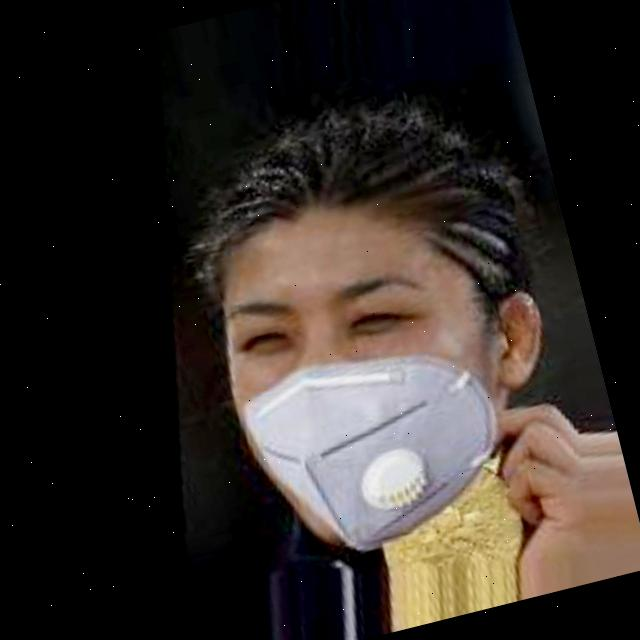suspicion: (152, 66, 560, 564)
